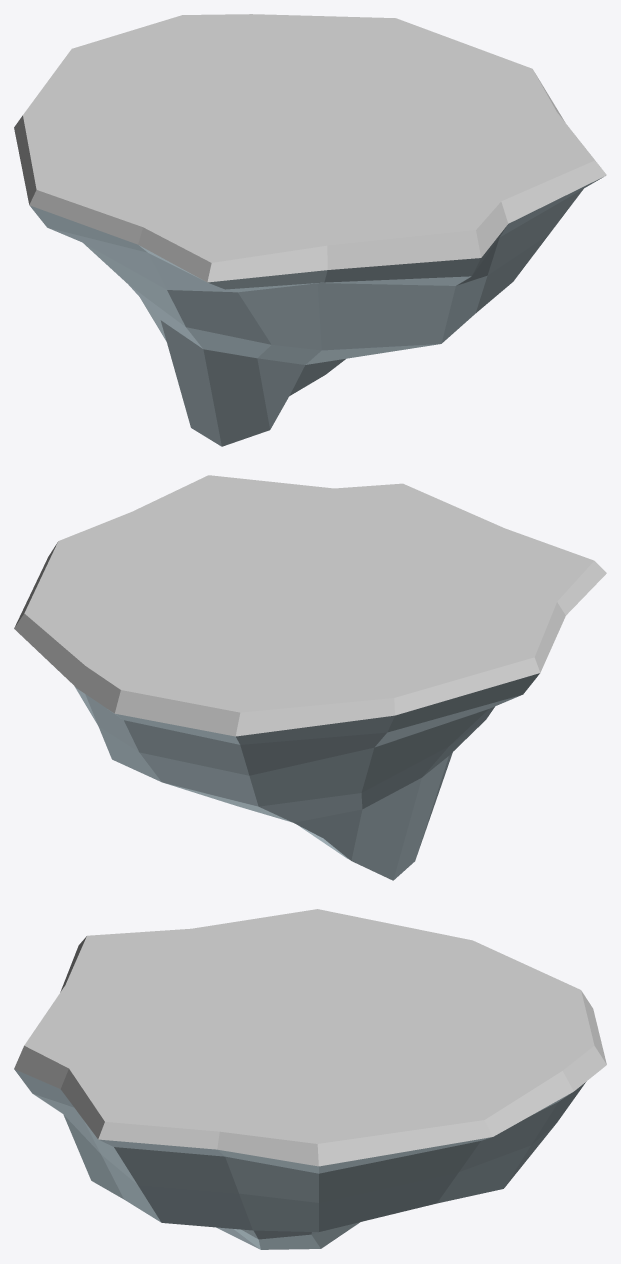
The model's file is Ice_IslandMedium.fbx.
3 renders of one model, top to bottom at view 1: azimuth 30°, elevation 25°; view 2: azimuth 150°, elevation 25°; view 3: azimuth 270°, elevation 25°, orthographic. The views are drawn at different scales.
Parts seen in each view (by area): view 1: Ice_Island_Medium; view 2: Ice_Island_Medium; view 3: Ice_Island_Medium.
Part boxes in pixels (<box>): Ice_Island_Medium: <box>14,14,606,446</box>; Ice_Island_Medium: <box>14,475,606,880</box>; Ice_Island_Medium: <box>14,909,606,1249</box>.
Size of the model in its own units: 9012 by 4579 by 9300.
